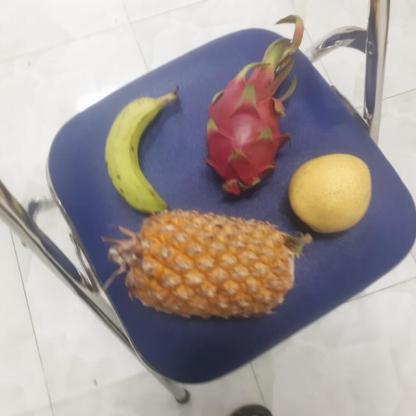banana: (102, 92, 176, 211)
pear: (287, 153, 373, 233)
pineapple: (113, 208, 300, 322)
pitaya: (199, 76, 291, 192)
